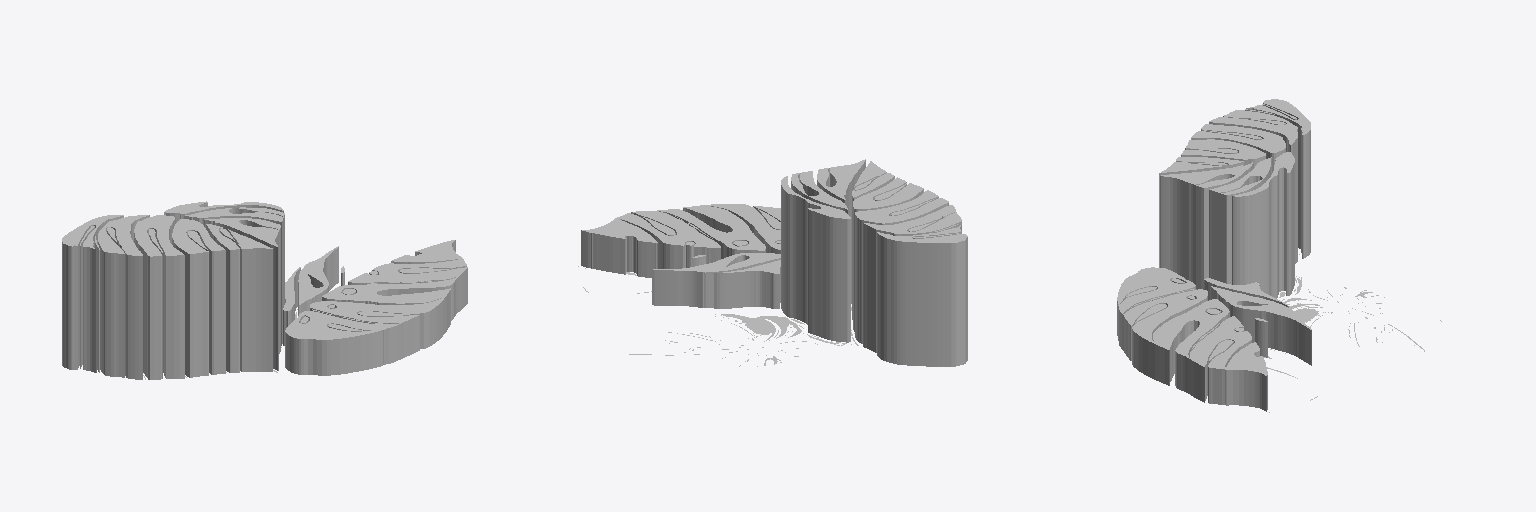
Rendered from leavesTest.obj.
3 views of the same model, side by side, from view 1: azimuth 30°, elevation 25°; view 2: azimuth 150°, elevation 25°; view 3: azimuth 270°, elevation 25° (orthographic).
Bounding box in the file's own units: 186 × 56.3 × 134.